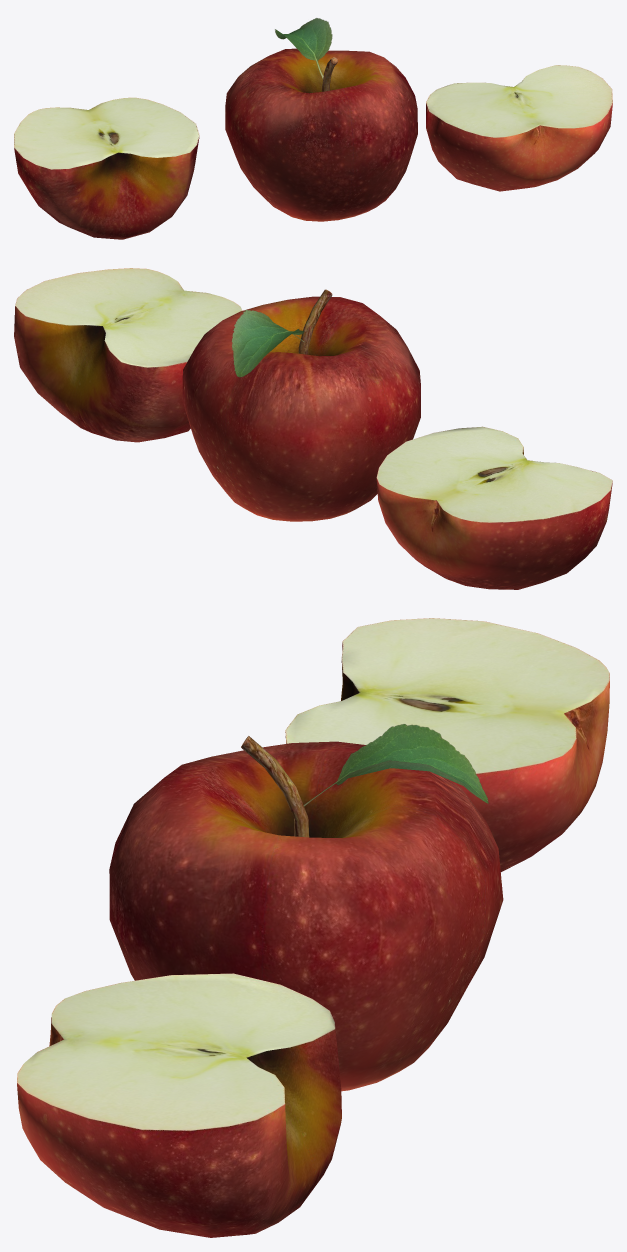
Rendered from apple.glb.
The picture shows the model from 3 angles, top to bottom: view 1: azimuth 30°, elevation 25°; view 2: azimuth 150°, elevation 25°; view 3: azimuth 270°, elevation 25°; orthographic projection. The views are drawn at different scales.
Parts seen in each view (by area): view 1: Apple, cutted apple v01, cutted apple v02, Leaf; view 2: Apple, cutted apple v01, cutted apple v02, Leaf; view 3: Apple, cutted apple v02, cutted apple v01, Leaf.
Part boxes in pixels (bbox=[...]): Apple: bbox=[225, 48, 417, 221]; cutted apple v01: bbox=[14, 97, 199, 239]; cutted apple v02: bbox=[426, 65, 612, 191]; Leaf: bbox=[275, 18, 332, 79]; Apple: bbox=[182, 289, 420, 521]; cutted apple v01: bbox=[376, 426, 612, 589]; cutted apple v02: bbox=[14, 268, 242, 442]; Leaf: bbox=[231, 310, 305, 377]; Apple: bbox=[109, 736, 503, 1091]; cutted apple v02: bbox=[17, 973, 341, 1237]; cutted apple v01: bbox=[285, 618, 609, 871]; Leaf: bbox=[303, 724, 488, 806].
Bounding box in the file's own units: 0.026 × 0.00777 × 0.0129.
4 materials, 4 textured.
